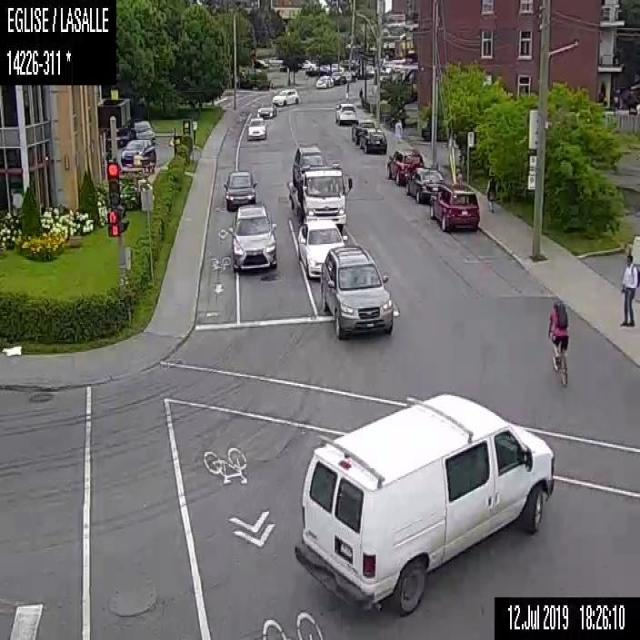cyclist: (546, 296, 568, 387)
pedestrian: (620, 252, 639, 327), (486, 169, 496, 212), (394, 116, 401, 149), (358, 86, 363, 106)
vehicle: (292, 390, 554, 618), (322, 244, 393, 338), (285, 141, 352, 232), (294, 214, 345, 280), (232, 202, 276, 271), (428, 180, 480, 232), (223, 166, 256, 211), (405, 165, 444, 200), (386, 148, 422, 184), (119, 138, 155, 165), (128, 116, 154, 141), (361, 128, 386, 153), (333, 100, 358, 124), (350, 119, 374, 142), (246, 114, 268, 139), (272, 85, 298, 106), (253, 98, 277, 120), (314, 73, 333, 89), (329, 68, 345, 84)
